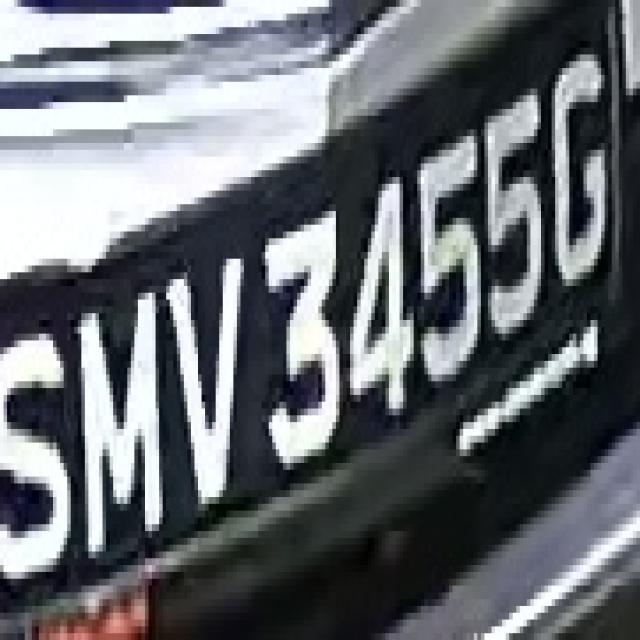3: (262, 191, 350, 490)
4: (346, 129, 414, 429)
5: (410, 122, 495, 402), (467, 89, 548, 368)
G: (548, 34, 619, 313)
M: (78, 279, 166, 565)
S: (4, 306, 67, 606)
V: (159, 238, 258, 531)
